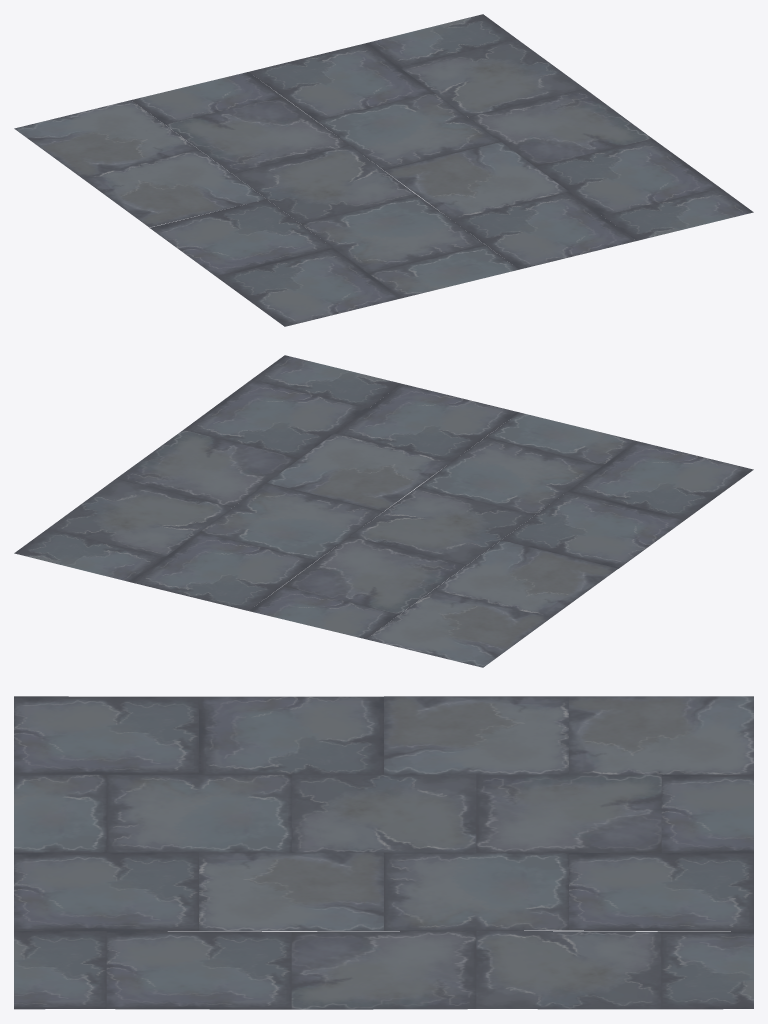
File: Castle Ground X Bright 4x4.fbx
3 views of the same model, one above another, from view 1: azimuth 30°, elevation 25°; view 2: azimuth 150°, elevation 25°; view 3: azimuth 270°, elevation 25° (orthographic). The views are drawn at different scales.
Parts seen in each view (by area): view 1: Castle Ground X Bright 4x4; view 2: Castle Ground X Bright 4x4; view 3: Castle Ground X Bright 4x4.
Part boxes in pixels (box(x1,y1,x2,y2)): Castle Ground X Bright 4x4: box(14, 14, 753, 326); Castle Ground X Bright 4x4: box(14, 355, 753, 667); Castle Ground X Bright 4x4: box(14, 696, 753, 1009).
Bounding box in the file's own units: 3 × 0.00375 × 3.
